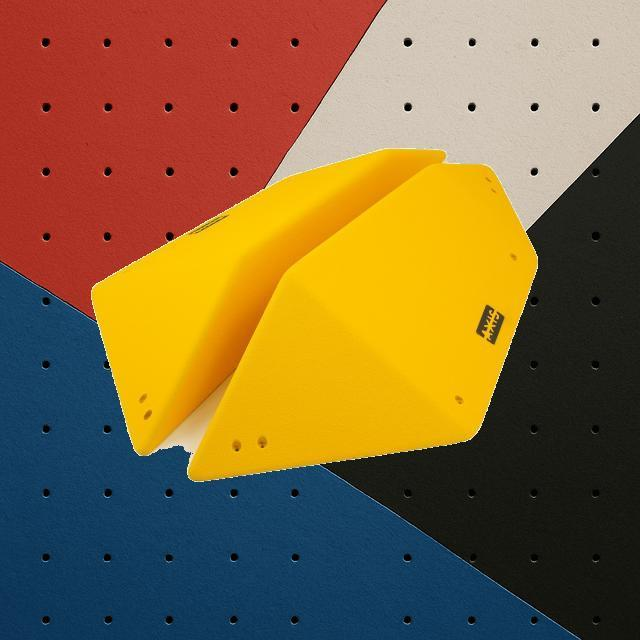Volume: (186, 160, 540, 484), (89, 146, 448, 460)
